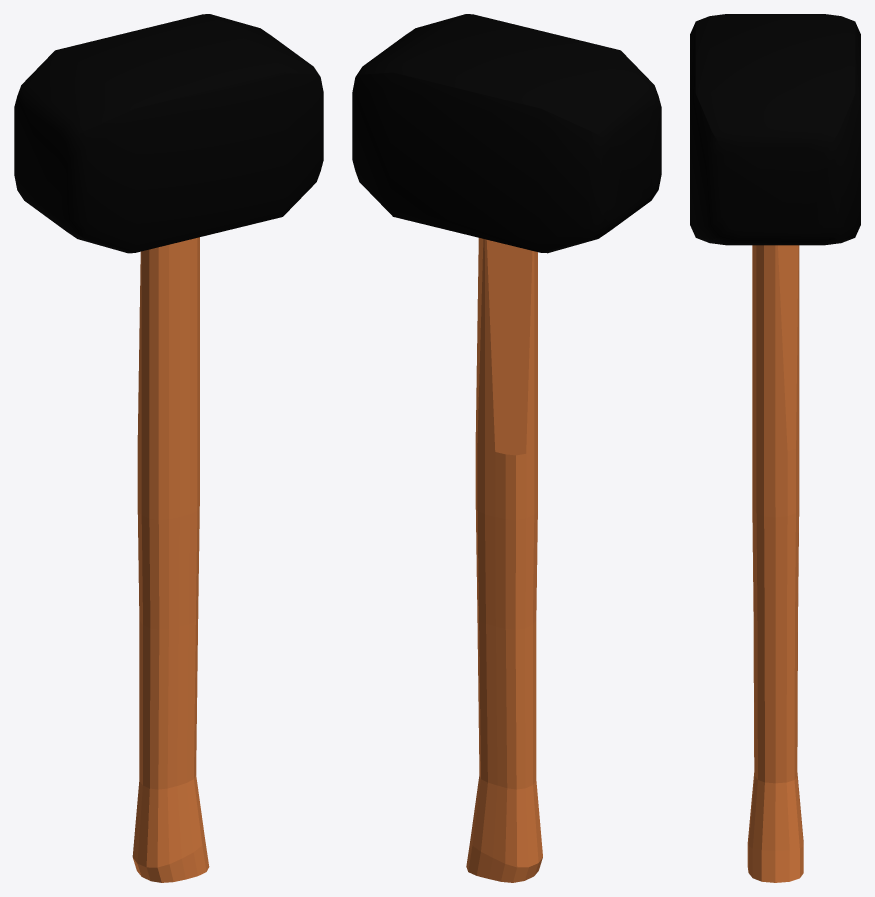
The model's file is Hammer.fbx.
The picture shows the model from 3 angles, left to right: view 1: azimuth 30°, elevation 25°; view 2: azimuth 150°, elevation 25°; view 3: azimuth 270°, elevation 25°; orthographic projection.
Parts seen in each view (by area): view 1: Cube.001; view 2: Cube.001; view 3: Cube.001.
Part boxes in pixels (left/top/right/bottom): Cube.001: left=14, top=14, right=323, bottom=882; Cube.001: left=352, top=14, right=661, bottom=882; Cube.001: left=690, top=14, right=860, bottom=882.
Bounding box in the file's own units: 178 × 546 × 104.
